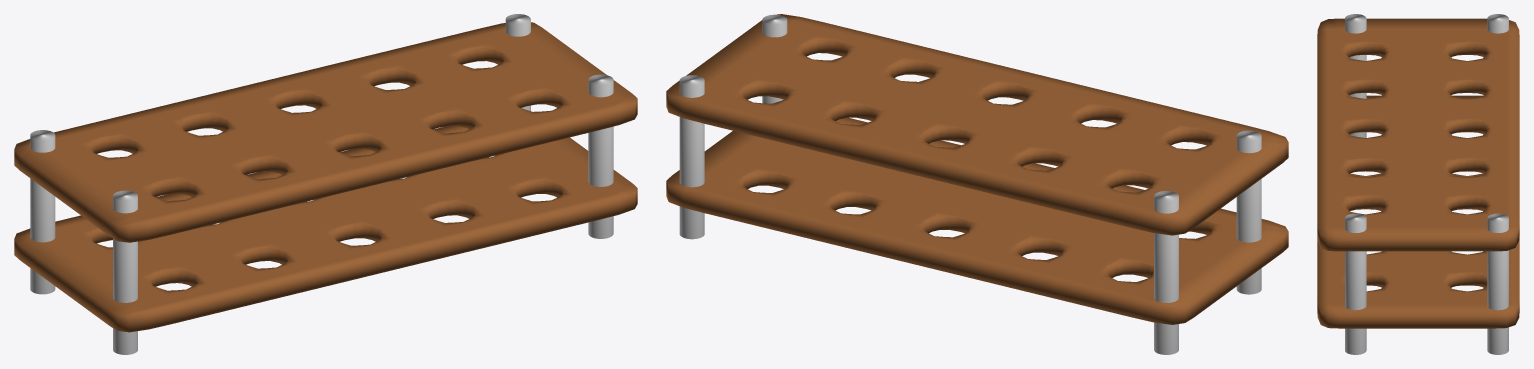
Rendered from raft_eprupete.fbx.
3 views of the same model, side by side, from view 1: azimuth 30°, elevation 25°; view 2: azimuth 150°, elevation 25°; view 3: azimuth 270°, elevation 25° (orthographic). The views are drawn at different scales.
Visible parts, largest first — view 1: Plane, Cylinder; view 2: Plane, Cylinder; view 3: Plane, Cylinder.
Part boxes in pixels (x1,y1,x2,y2): Plane: (14, 22, 637, 332); Cylinder: (30, 14, 613, 354); Plane: (666, 14, 1288, 324); Cylinder: (679, 14, 1261, 354); Plane: (1317, 18, 1519, 328); Cylinder: (1345, 14, 1508, 354).
Size of the model in its own units: 171 by 48.11 by 66.78.
